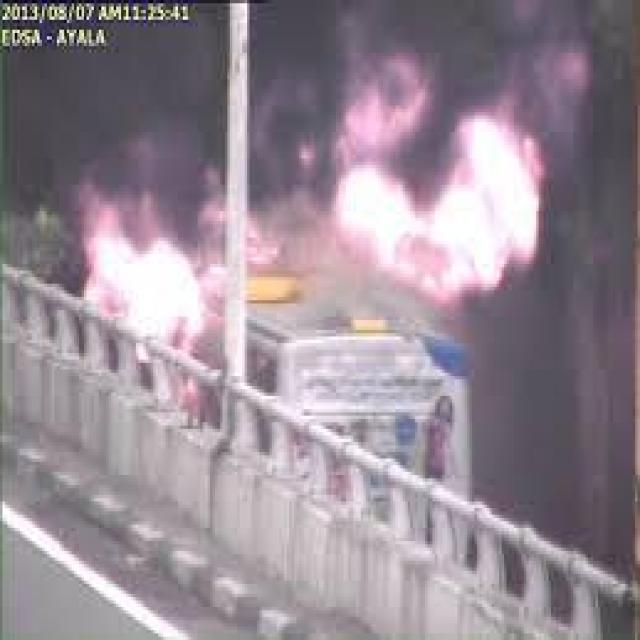fire: (338, 86, 541, 298), (68, 172, 218, 354)
